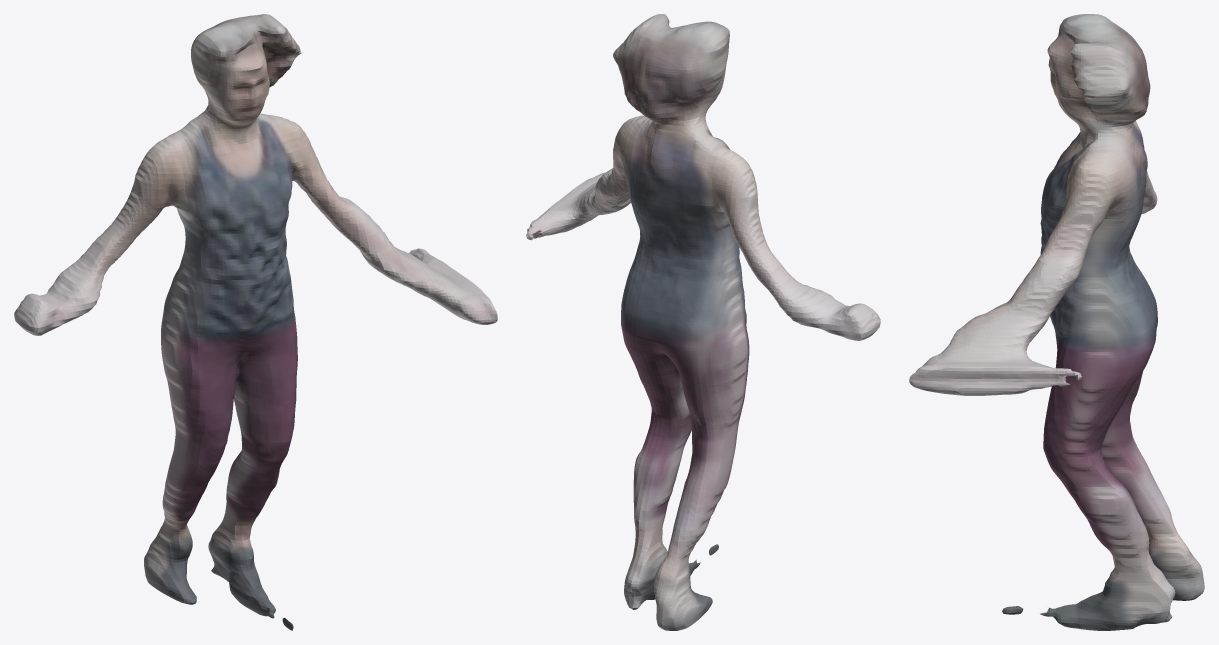
The model's file is 0048_tex.glb.
3 renders of one model, left to right at view 1: azimuth 30°, elevation 25°; view 2: azimuth 150°, elevation 25°; view 3: azimuth 270°, elevation 25°, orthographic. The views are drawn at different scales.
Visible parts, largest first — view 1: 0048_tex.obj; view 2: 0048_tex.obj; view 3: 0048_tex.obj.
Part boxes in pixels (bbox=[...]): 0048_tex.obj: bbox=[14, 14, 497, 630]; 0048_tex.obj: bbox=[526, 14, 880, 630]; 0048_tex.obj: bbox=[909, 14, 1204, 630].
Size of the model in its own units: 0.6118 by 0.8965 by 0.4043.
